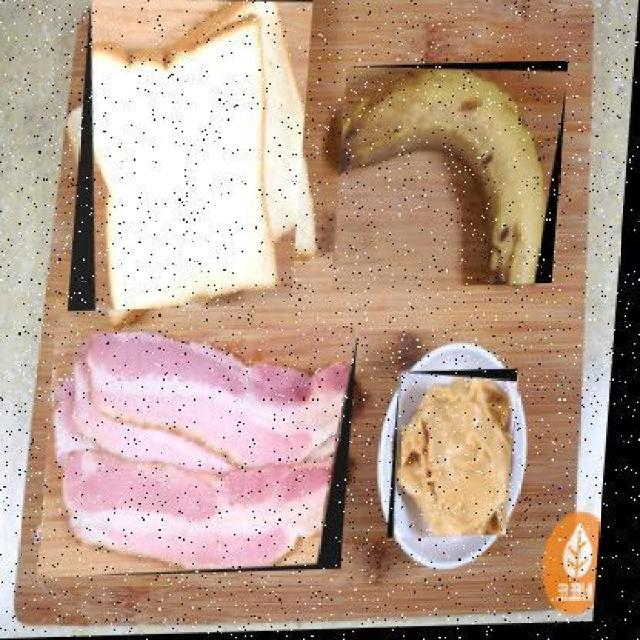Banana: (326, 69, 545, 283)
